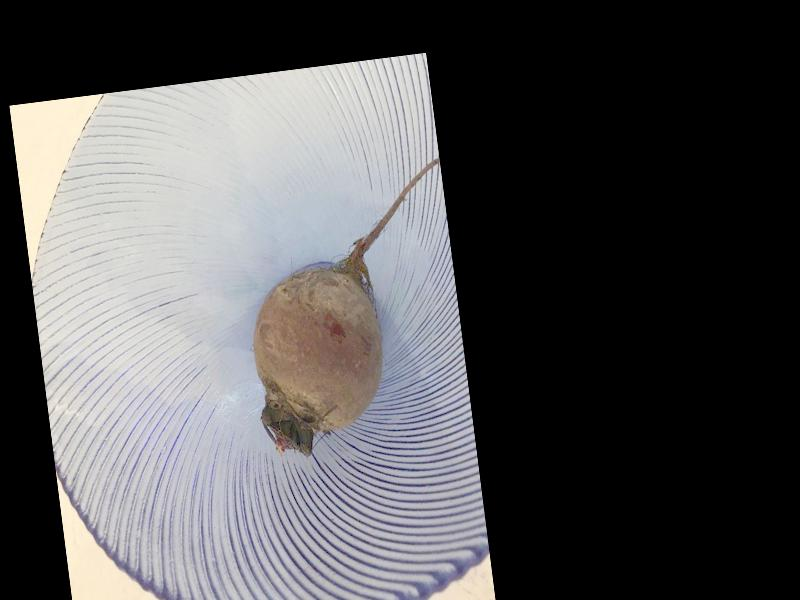Beet: (232, 158, 474, 460)
